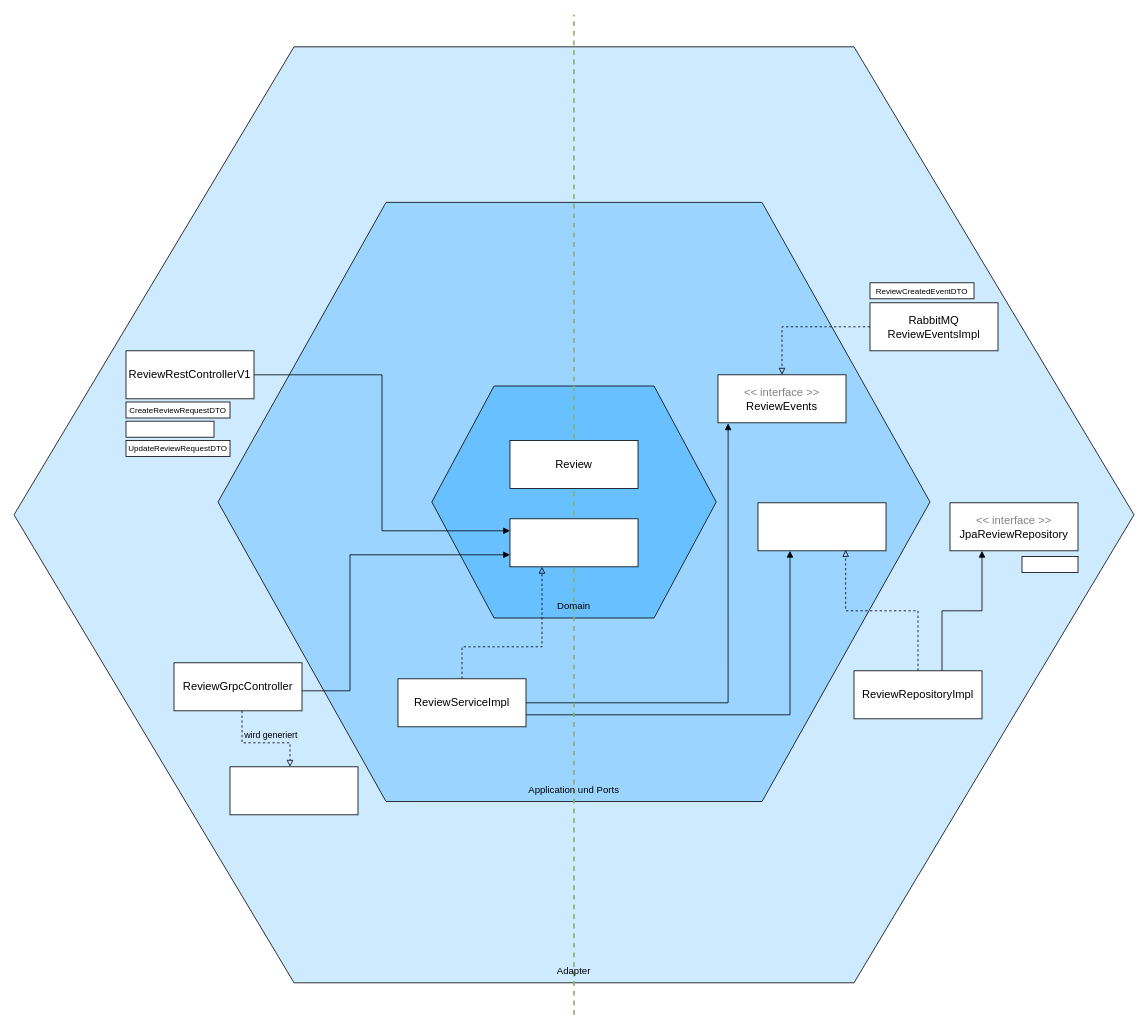
The diagram is 1148 pixels wide and 1030 high, and some of its shapes have lost their labels. The centre of each missing label's shape, as x and y in pixels:
"<< interface >> ReviewRepository" belongs at pixel 821 526.
"<< interface >> ReviewService" belongs at pixel 573 542.
"ReviewEntity" belongs at pixel 1049 564.
"ReviewResponseDTO" belongs at pixel 169 428.
"ReviewServiceStub" belongs at pixel 293 790.
